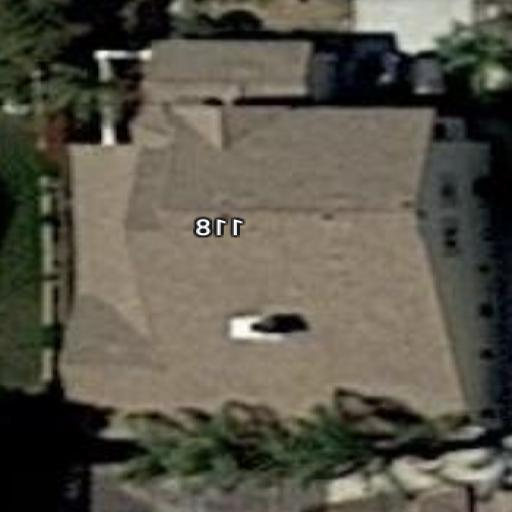Slope-Roof: (57, 40, 479, 434)
